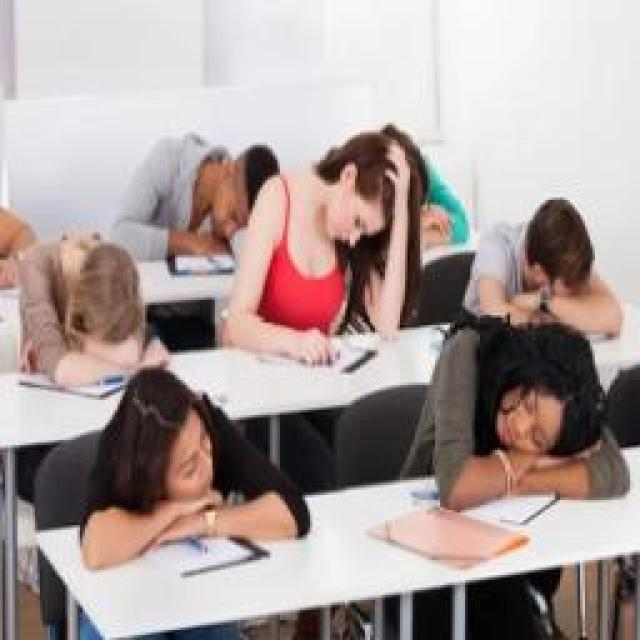sleep: (395, 312, 630, 502), (80, 375, 310, 560), (108, 125, 280, 275), (462, 195, 618, 343), (22, 233, 162, 395)
study: (230, 135, 408, 357)
